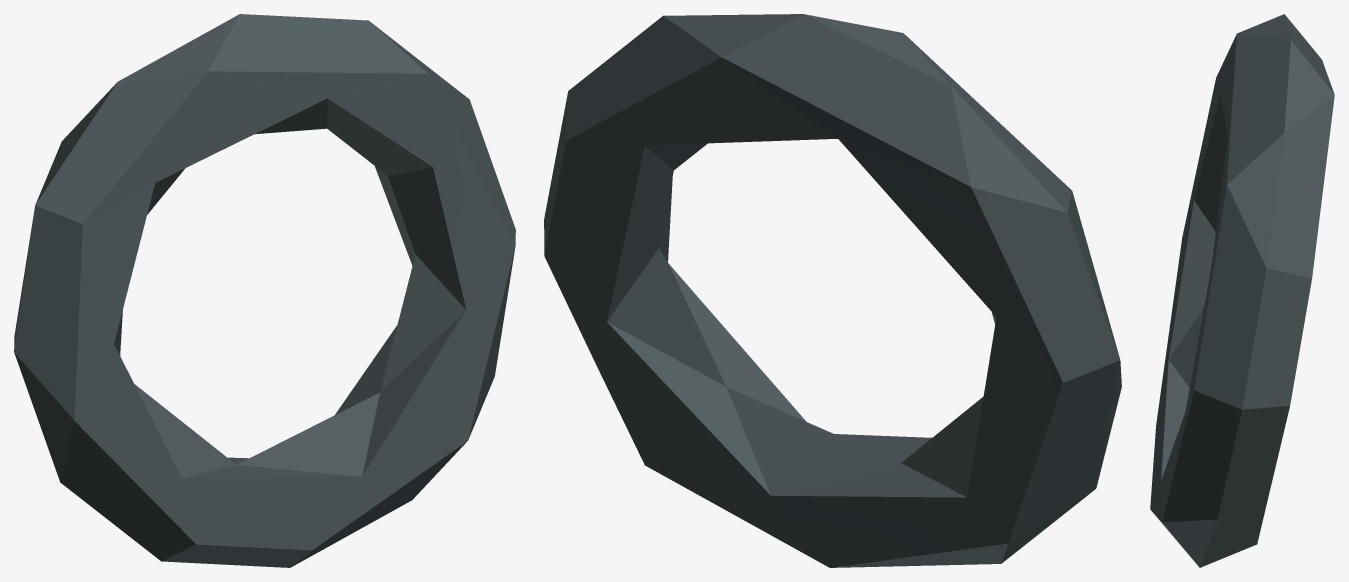
The model's file is DoorHandle_01.fbx.
The picture shows the model from 3 angles, left to right: view 1: azimuth 30°, elevation 25°; view 2: azimuth 150°, elevation 25°; view 3: azimuth 270°, elevation 25°; orthographic projection. The views are drawn at different scales.
Parts seen in each view (by area): view 1: DoorHandle_01; view 2: DoorHandle_01; view 3: DoorHandle_01.
Part boxes in pixels (box(x1,y1,x2,y2)): DoorHandle_01: box(14, 14, 515, 567); DoorHandle_01: box(544, 14, 1121, 567); DoorHandle_01: box(1150, 14, 1334, 567).
Bounding box in the file's own units: 14.29 × 14.08 × 4.69.
